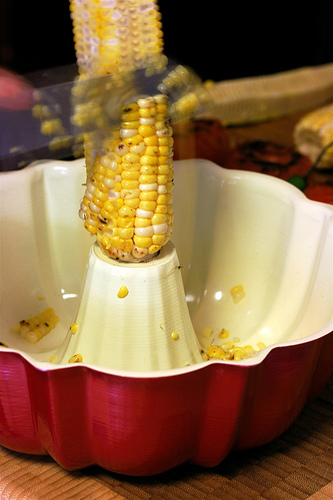corn: (66, 0, 180, 266), (196, 325, 267, 365), (294, 106, 331, 162), (227, 282, 246, 303)
